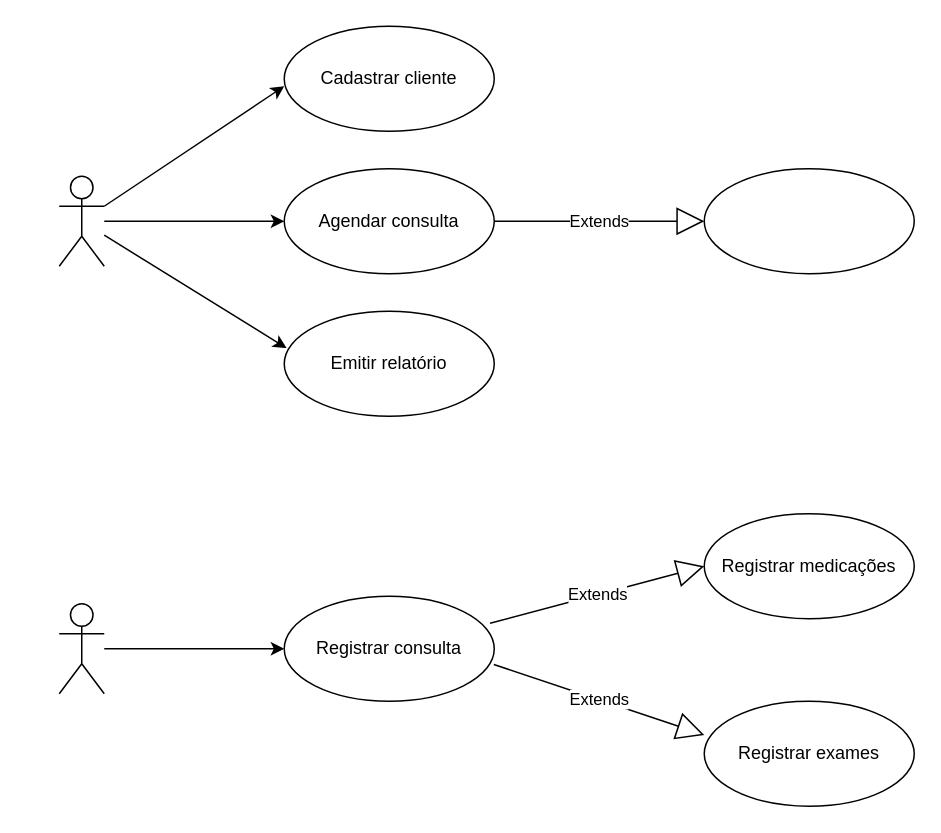
The diagram is 941 pixels wide and 833 high, and some of its shapes have lost their labels. The centre of each missing label's shape, as x and y in pixels:
Confirmar consulta: the point at 808,220
Médico: the point at 81,648
Recepcionista: the point at 81,220
